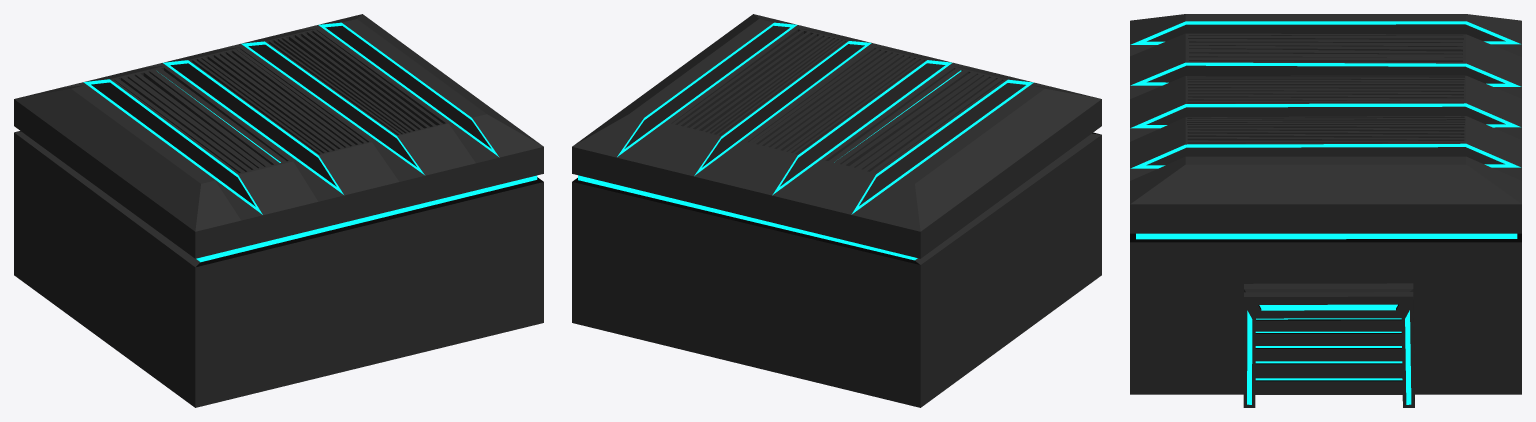
Rendered from Barracks.FBX.
3 views of the same model, side by side, from view 1: azimuth 30°, elevation 25°; view 2: azimuth 150°, elevation 25°; view 3: azimuth 270°, elevation 25° (orthographic). The views are drawn at different scales.
Parts seen in each view (by area): view 1: Barricks; view 2: Barricks; view 3: Barricks.
Part boxes in pixels (left/top/right/bottom): Barricks: left=14, top=14, right=543, bottom=407; Barricks: left=572, top=14, right=1101, bottom=407; Barricks: left=1130, top=14, right=1521, bottom=407.
Bounding box in the file's own units: 107 × 54.08 × 89.64.
